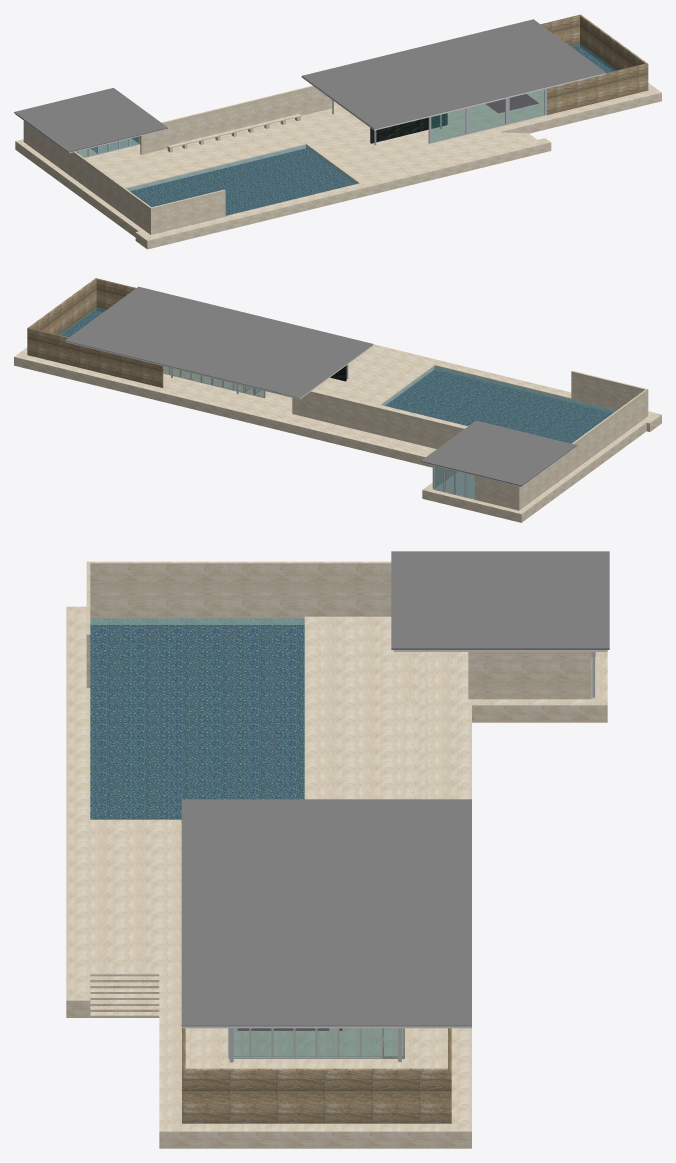
The picture shows the model from 3 angles, top to bottom: view 1: azimuth 30°, elevation 25°; view 2: azimuth 150°, elevation 25°; view 3: azimuth 270°, elevation 25°; orthographic projection. The views are drawn at different scales.
Parts seen in each view (by area): view 1: Mesh63_Travertine_0, Mesh69_Roof_0, Mesh64_Water_Dark_Blue_0, Mesh72_Stone_0, Mesh1_Roof_0, Mesh66_TravertineDark_0, Mesh68_Glass_0, Mesh60_Travertine_0, Mesh70_Chrome_0, Mesh65_BlackMable_0, Mesh72_Travertine_0, Mesh69_White_0 (+2 smaller); view 2: Mesh63_Travertine_0, Mesh69_Roof_0, Mesh64_Water_Dark_Blue_0, Mesh72_Stone_0, Mesh66_TravertineDark_0, Mesh1_Roof_0, Mesh60_Travertine_0, Mesh68_Glass_0, Mesh72_Travertine_0, Mesh62_Chrome_0, Mesh70_Chrome_0, Mesh69_White_0 (+1 smaller); view 3: Mesh63_Travertine_0, Mesh69_Roof_0, Mesh64_Water_Dark_Blue_0, Mesh72_Stone_0, Mesh1_Roof_0, Mesh61_Travertine_0, Mesh66_TravertineDark_0, Mesh60_Travertine_0, Mesh68_Glass_0, Mesh72_Travertine_0, Mesh70_Chrome_0, Mesh69_White_0.
Part boxes in pixels (left/top/right/bottom): Mesh63_Travertine_0: left=15, top=83, right=661, bottom=249; Mesh69_Roof_0: left=302, top=19, right=605, bottom=128; Mesh64_Water_Dark_Blue_0: left=127, top=145, right=357, bottom=215; Mesh72_Stone_0: left=130, top=148, right=354, bottom=215; Mesh1_Roof_0: left=14, top=88, right=167, bottom=152; Mesh66_TravertineDark_0: left=541, top=14, right=648, bottom=114; Mesh68_Glass_0: left=76, top=89, right=544, bottom=157; Mesh60_Travertine_0: left=74, top=85, right=313, bottom=208; Mesh70_Chrome_0: left=77, top=88, right=546, bottom=157; Mesh65_BlackMable_0: left=370, top=113, right=447, bottom=143; Mesh72_Travertine_0: left=127, top=145, right=358, bottom=191; Mesh69_White_0: left=301, top=73, right=605, bottom=130; Mesh63_Travertine_0: left=14, top=344, right=661, bottom=522; Mesh69_Roof_0: left=65, top=286, right=373, bottom=397; Mesh64_Water_Dark_Blue_0: left=382, top=366, right=615, bottom=443; Mesh72_Stone_0: left=385, top=369, right=612, bottom=443; Mesh66_TravertineDark_0: left=27, top=278, right=163, bottom=387; Mesh1_Roof_0: left=421, top=420, right=577, bottom=486; Mesh60_Travertine_0: left=311, top=371, right=647, bottom=443; Mesh68_Glass_0: left=163, top=366, right=474, bottom=498; Mesh72_Travertine_0: left=382, top=365, right=616, bottom=412; Mesh62_Chrome_0: left=434, top=466, right=474, bottom=498; Mesh70_Chrome_0: left=163, top=367, right=475, bottom=499; Mesh69_White_0: left=65, top=341, right=373, bottom=399; Mesh63_Travertine_0: left=66, top=606, right=607, bottom=1148; Mesh69_Roof_0: left=181, top=799, right=471, bottom=1026; Mesh64_Water_Dark_Blue_0: left=90, top=618, right=304, bottom=819; Mesh72_Stone_0: left=90, top=625, right=304, bottom=819; Mesh1_Roof_0: left=391, top=551, right=609, bottom=649; Mesh61_Travertine_0: left=90, top=563, right=391, bottom=618; Mesh66_TravertineDark_0: left=182, top=1028, right=451, bottom=1123; Mesh60_Travertine_0: left=86, top=561, right=607, bottom=799; Mesh68_Glass_0: left=229, top=1028, right=403, bottom=1057; Mesh72_Travertine_0: left=90, top=618, right=304, bottom=624; Mesh70_Chrome_0: left=228, top=652, right=595, bottom=1058; Mesh69_White_0: left=181, top=1026, right=471, bottom=1028.
Bounding box in the file's own units: 65.4 × 4.35 × 28.61.
13 materials, 6 textured.
